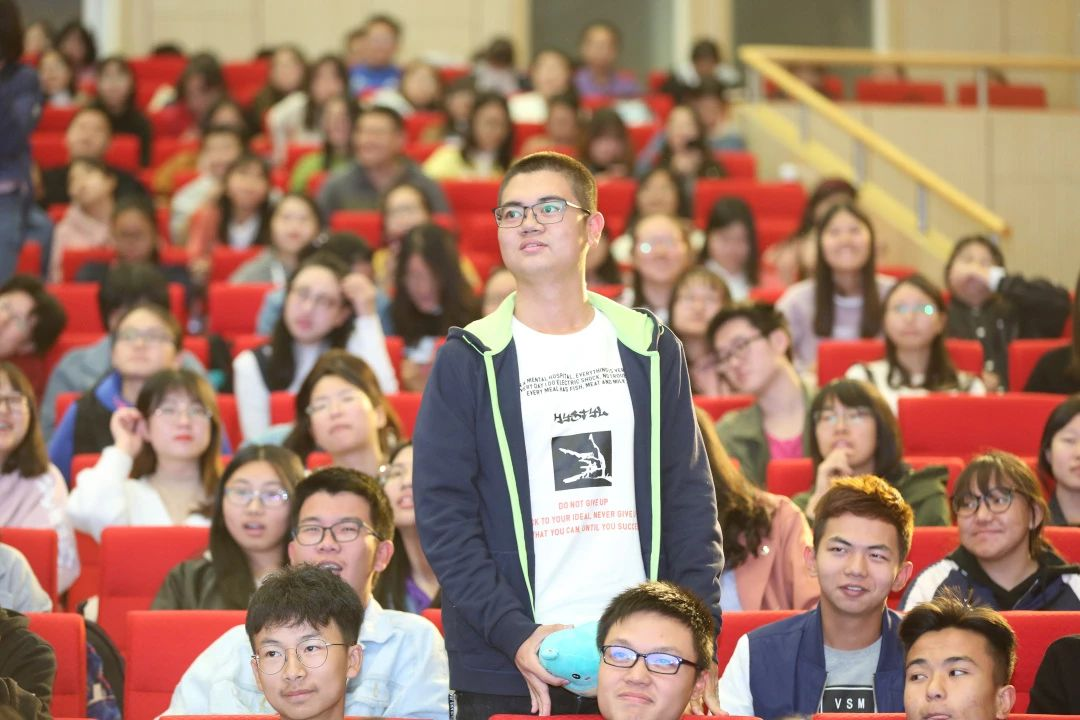other: (405, 150, 777, 710)
